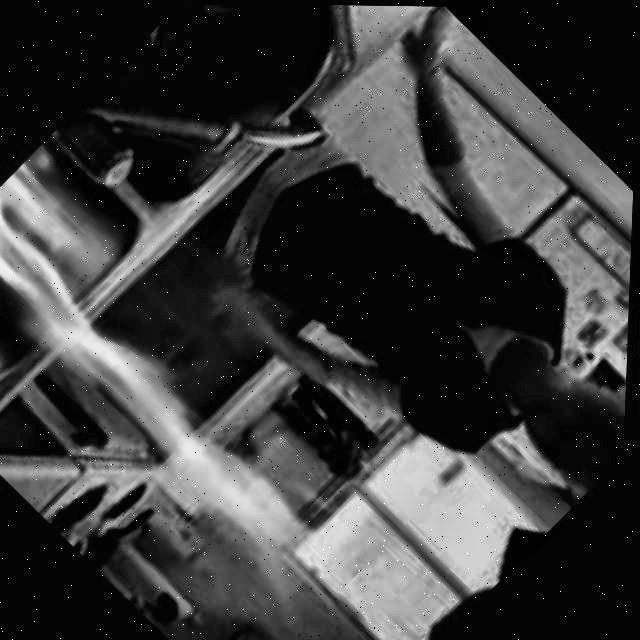Fire: (0, 145, 382, 583)
